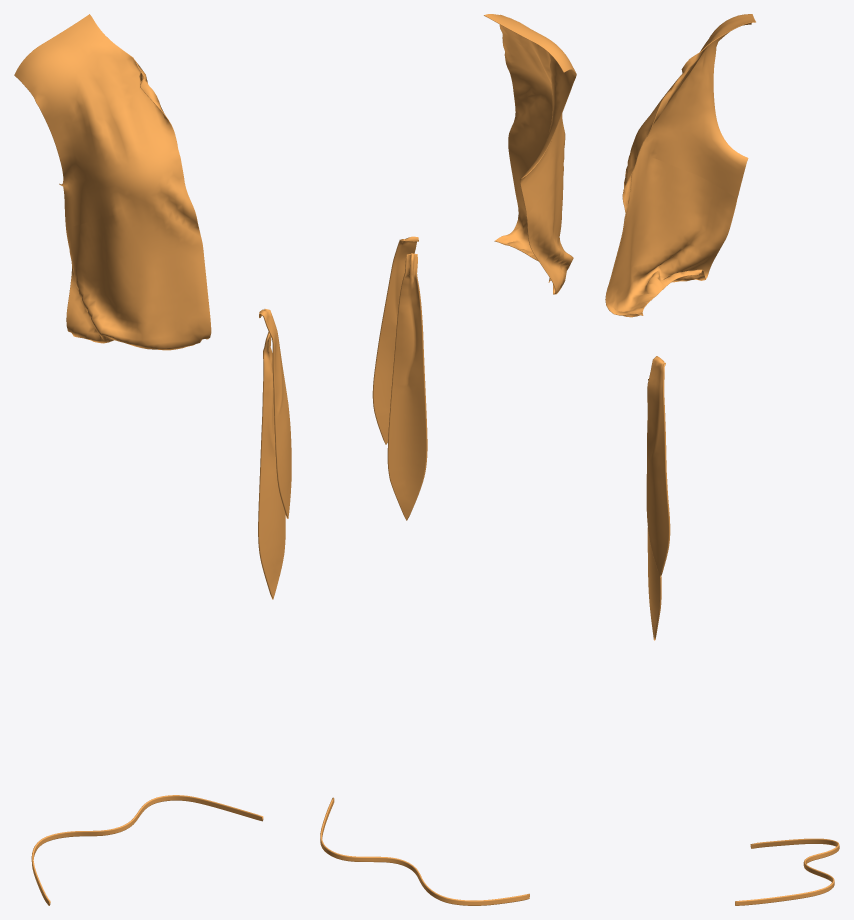
3 views of the same model, side by side, from view 1: azimuth 30°, elevation 25°; view 2: azimuth 150°, elevation 25°; view 3: azimuth 270°, elevation 25° (orthographic). The views are drawn at different scales.
Parts seen in each view (by area): view 1: Object_8; view 2: Object_8; view 3: Object_8.
Part boxes in pixels (<box>): Object_8: <box>14,14,291,905</box>; Object_8: <box>320,14,576,905</box>; Object_8: <box>605,14,839,905</box>.
Size of the model in its own units: 0.3554 by 1.24 by 0.3104.
